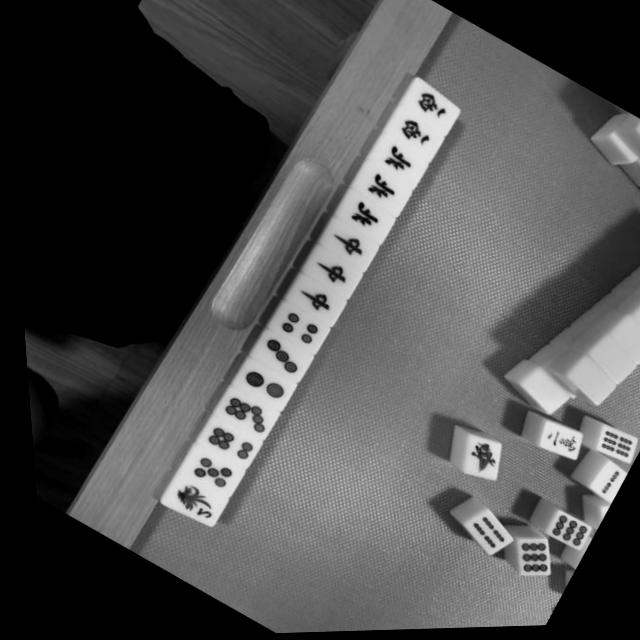bf2: (155, 473, 221, 530)
hdr: (281, 275, 341, 328), (299, 248, 358, 299), (318, 222, 373, 269)
hwn: (352, 166, 408, 216), (336, 196, 391, 244), (370, 139, 422, 186)
hww: (387, 112, 440, 158), (407, 88, 457, 129)
sd2: (229, 360, 288, 411)
sd3: (247, 332, 308, 385)
sd4: (266, 304, 322, 353)
sd5: (176, 444, 237, 498)
sd6: (194, 418, 253, 468)
sd7: (209, 387, 271, 443)
